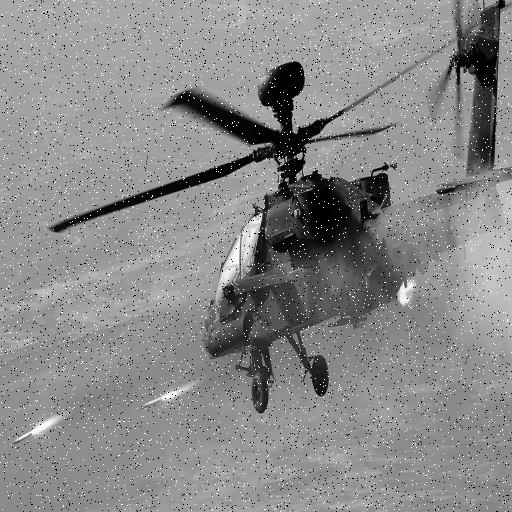helicopter: (46, 1, 512, 417)
